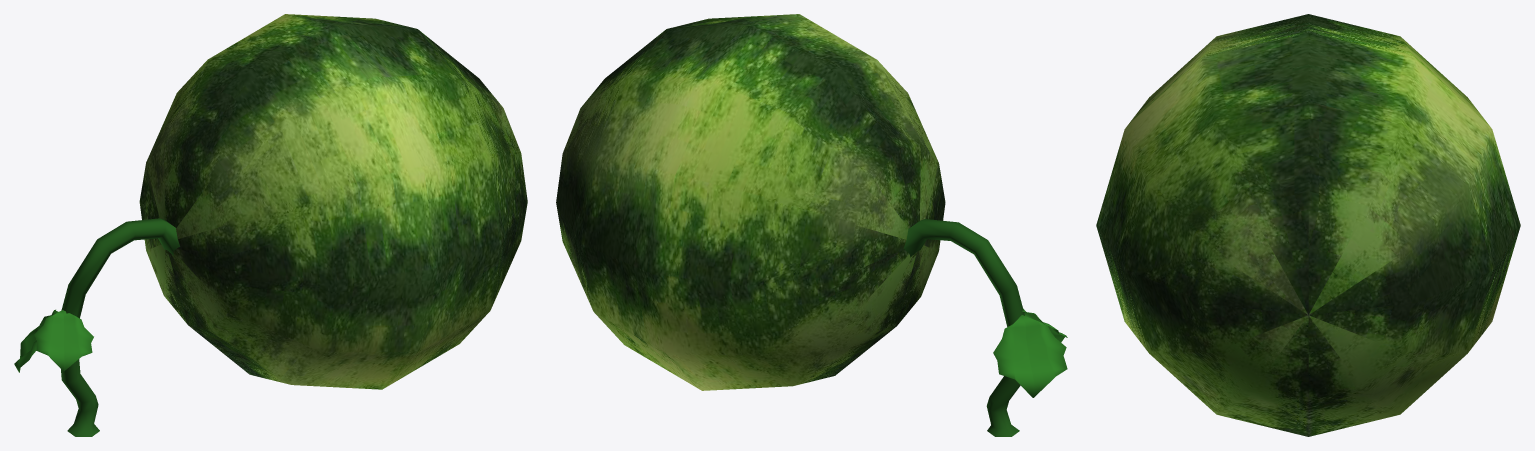
Rendered from Watermelon.fbx.
3 renders of one model, left to right at view 1: azimuth 30°, elevation 25°; view 2: azimuth 150°, elevation 25°; view 3: azimuth 270°, elevation 25°, orthographic. The views are drawn at different scales.
Parts seen in each view (by area): view 1: Sphere, Cylinder, Plane.001, Plane; view 2: Sphere, Cylinder, Plane; view 3: Sphere.
Part boxes in pixels (x1,y1,x2,y2): Sphere: (139, 14, 527, 389); Cylinder: (61, 218, 180, 436); Plane.001: (34, 310, 93, 371); Plane: (14, 309, 58, 372); Sphere: (556, 14, 945, 390); Cylinder: (903, 219, 1024, 436); Plane: (993, 315, 1067, 397); Sphere: (1096, 14, 1520, 436).
Bounding box in the file's own units: 2.88 × 2 × 2.
